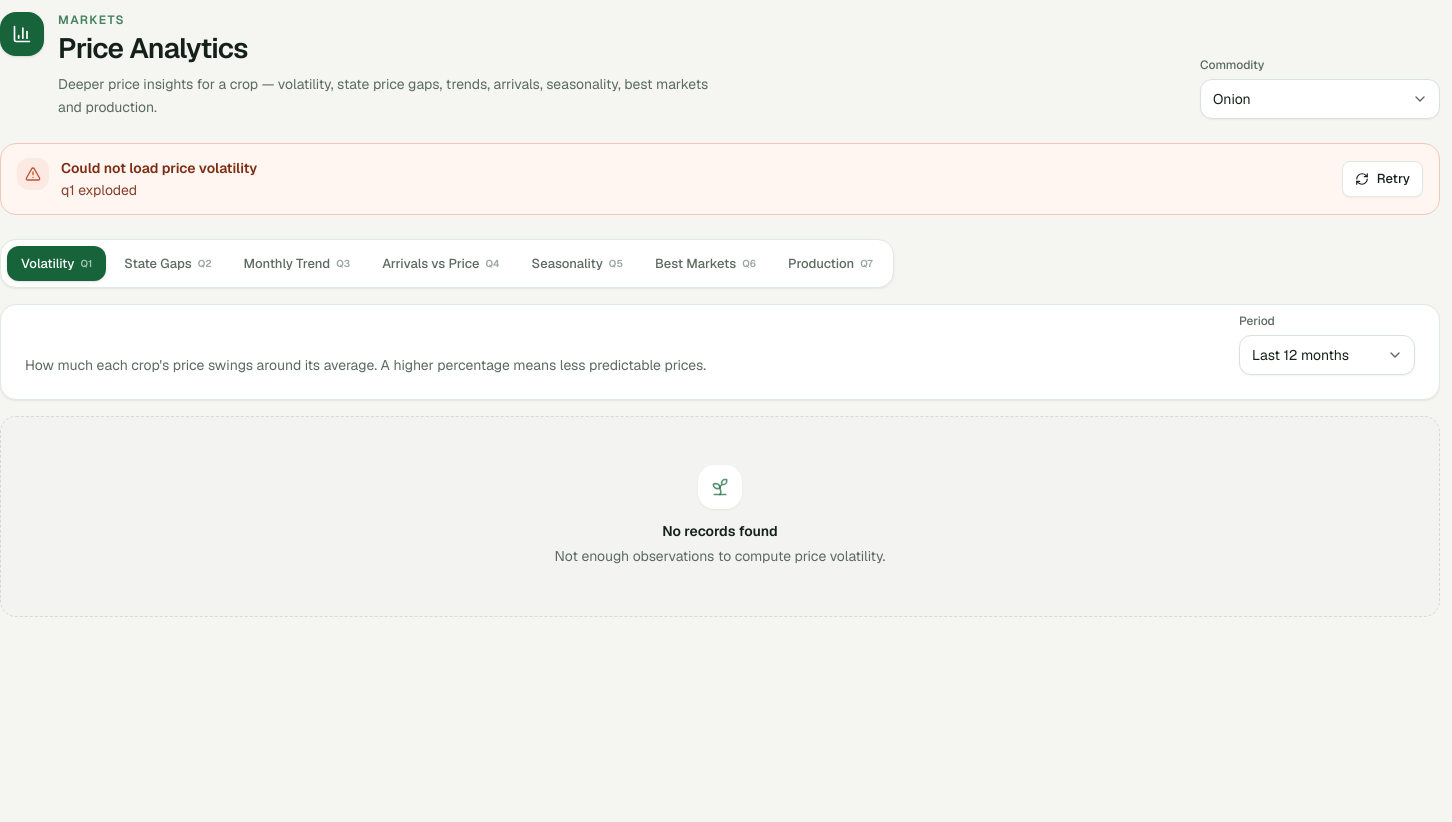
Test: Price Analytics Q2 filters › isolates a Q1 failure from the commodity-scoped tabs and retries only Q1
The image size is (1452, 822).
Expected: the text "q1 exploded" is shown, [61,181,137,199]
Click the button "Retry" at (1382, 179), box [1342,161,1423,197]
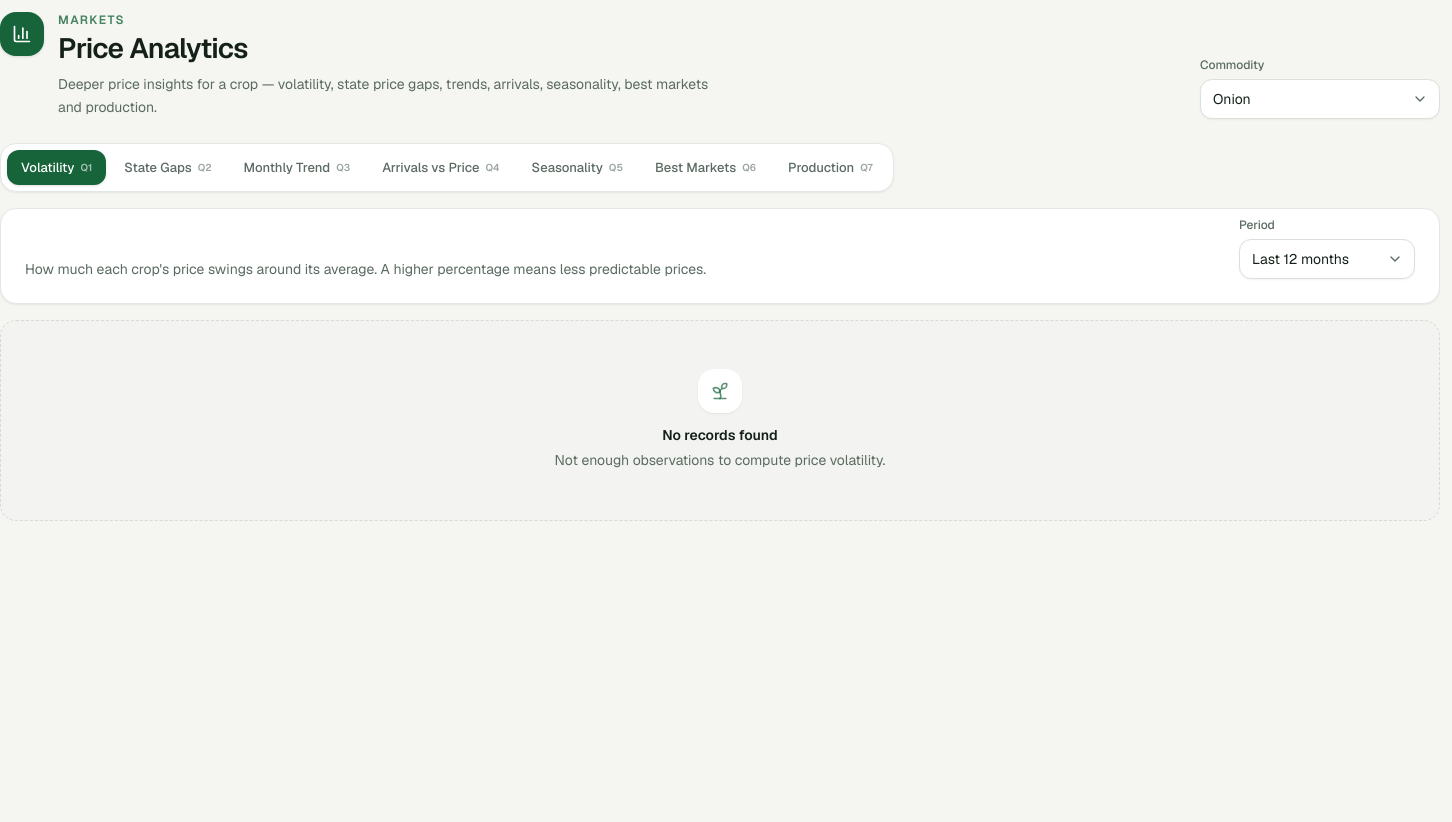
Result: the text "q1 exploded" is gone
